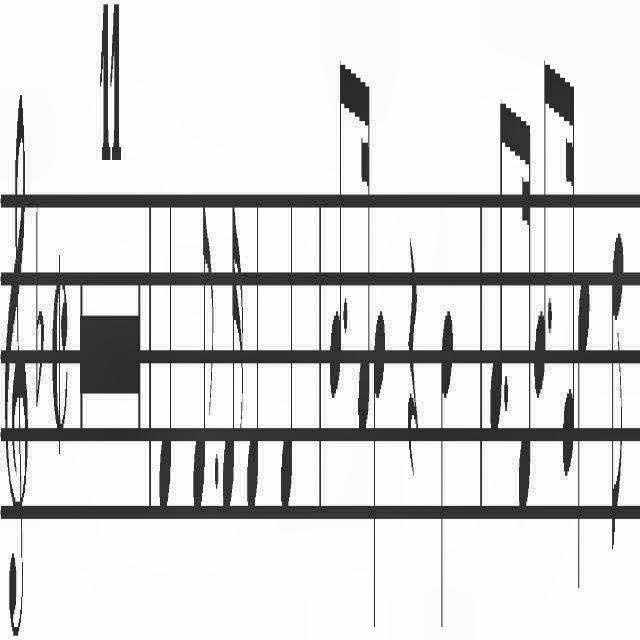Bass-clef: (4, 78, 28, 640)
Bemol: (35, 203, 45, 417)
Eighth-note: (192, 200, 214, 516), (532, 38, 548, 402), (328, 48, 344, 406), (488, 84, 504, 438), (611, 225, 625, 560)
Quarter-note: (440, 295, 456, 633), (244, 195, 260, 525), (158, 203, 174, 517), (279, 192, 293, 538), (577, 270, 591, 610), (371, 307, 384, 640)
Quarter-rest: (407, 233, 418, 481)
Sixteenth-note: (222, 192, 244, 522), (517, 111, 531, 525), (357, 62, 371, 446), (562, 68, 574, 484)
